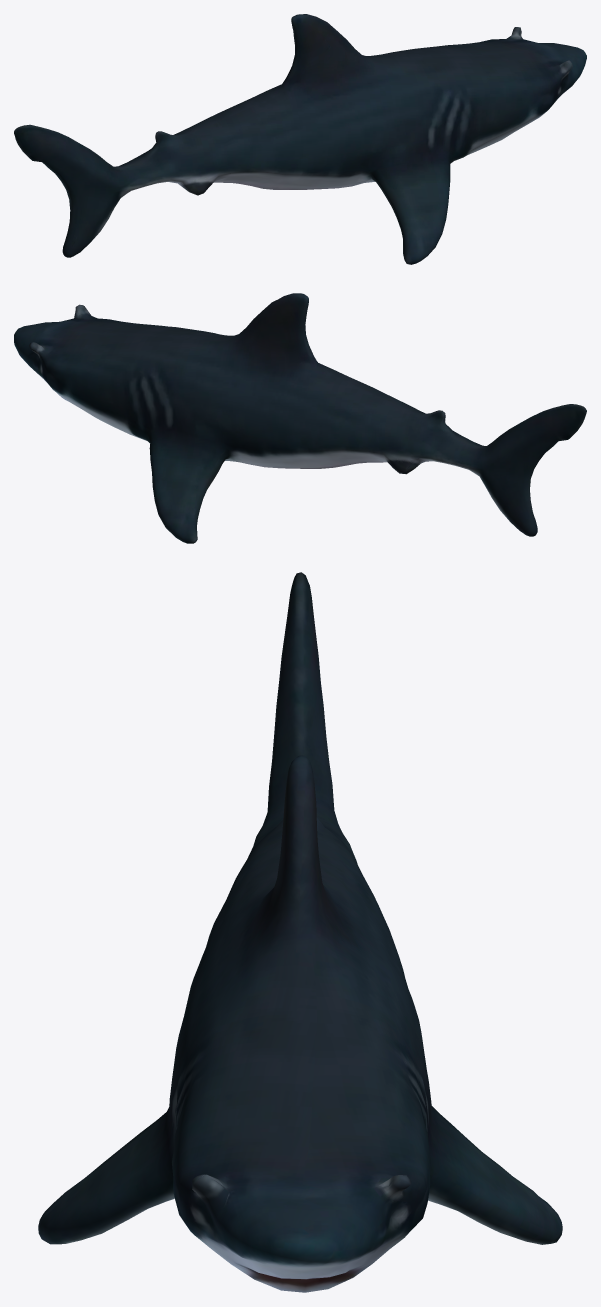
File: shark-transformed.glb
The picture shows the model from 3 angles, top to bottom: view 1: azimuth 30°, elevation 25°; view 2: azimuth 150°, elevation 25°; view 3: azimuth 270°, elevation 25°; orthographic projection. The views are drawn at different scales.
Visible parts, largest first — view 1: mesh; view 2: mesh; view 3: mesh.
Part boxes in pixels (x1=…): mesh: x1=14, y1=14, x2=586, y2=264; mesh: x1=14, y1=293, x2=586, y2=543; mesh: x1=38, y1=572, x2=562, y2=1292.
Size of the model in its own units: 0.9976 by 0.3598 by 0.3972.
1 material, 1 textured.
